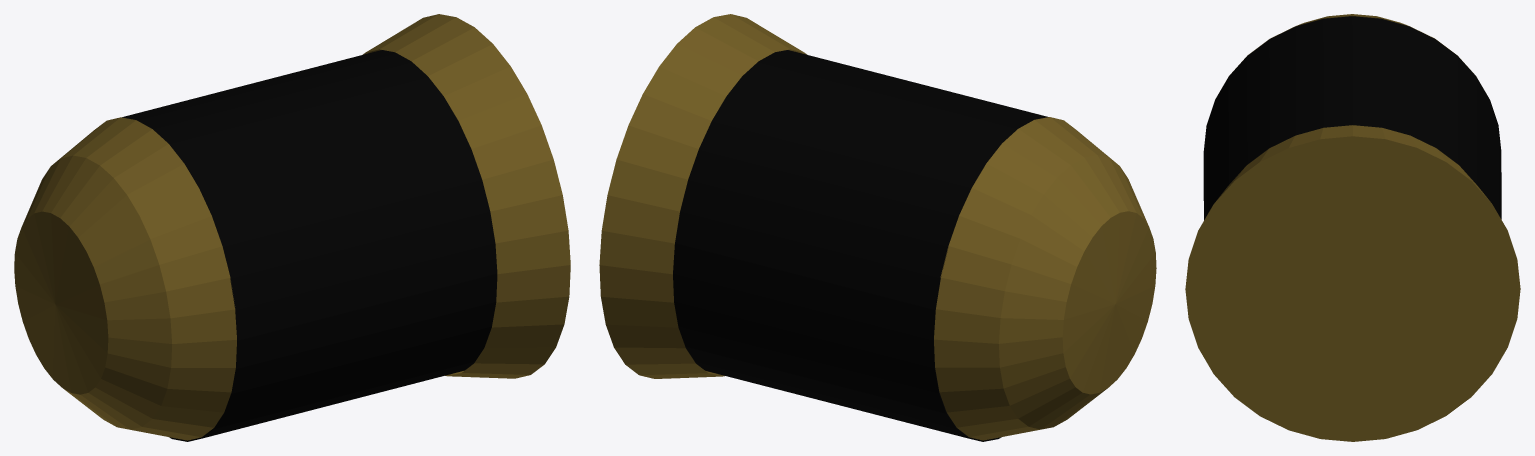
The model's file is grenadelauncher_ammo.fbx.
3 views of the same model, side by side, from view 1: azimuth 30°, elevation 25°; view 2: azimuth 150°, elevation 25°; view 3: azimuth 270°, elevation 25° (orthographic). The views are drawn at different scales.
Visible parts, largest first — view 1: grenadelauncher_ammo; view 2: grenadelauncher_ammo; view 3: grenadelauncher_ammo.
Boxes of the visible parts, <box> form: grenadelauncher_ammo: <box>14,14,570,441</box>; grenadelauncher_ammo: <box>599,14,1156,441</box>; grenadelauncher_ammo: <box>1185,14,1520,441</box>.
Bounding box in the file's own units: 6.9 × 5.28 × 5.27.
